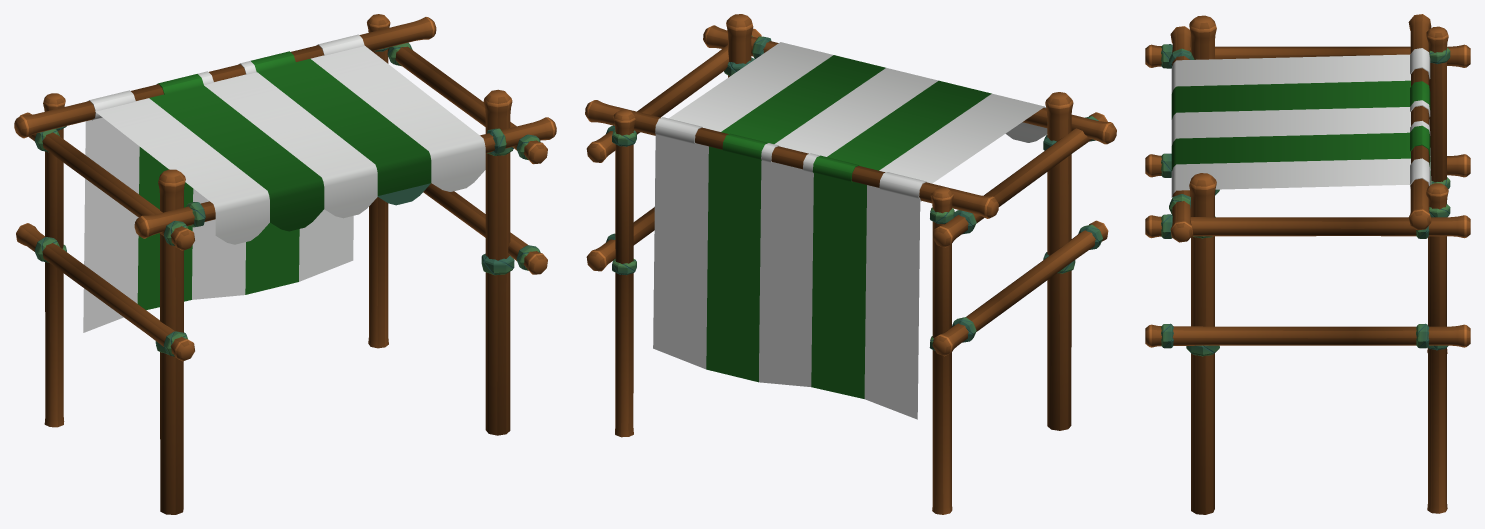
The model's file is Stall-3-3.fbx.
The picture shows the model from 3 angles, left to right: view 1: azimuth 30°, elevation 25°; view 2: azimuth 150°, elevation 25°; view 3: azimuth 270°, elevation 25°; orthographic projection. The views are drawn at different scales.
Parts seen in each view (by area): view 1: Stall-3-3; view 2: Stall-3-3; view 3: Stall-3-3.
Part boxes in pixels (x1=…): Stall-3-3: x1=14, y1=14, x2=556, y2=514; Stall-3-3: x1=585, y1=14, x2=1116, y2=514; Stall-3-3: x1=1145, y1=14, x2=1470, y2=514.
Size of the model in its own units: 521 by 404 by 358.
